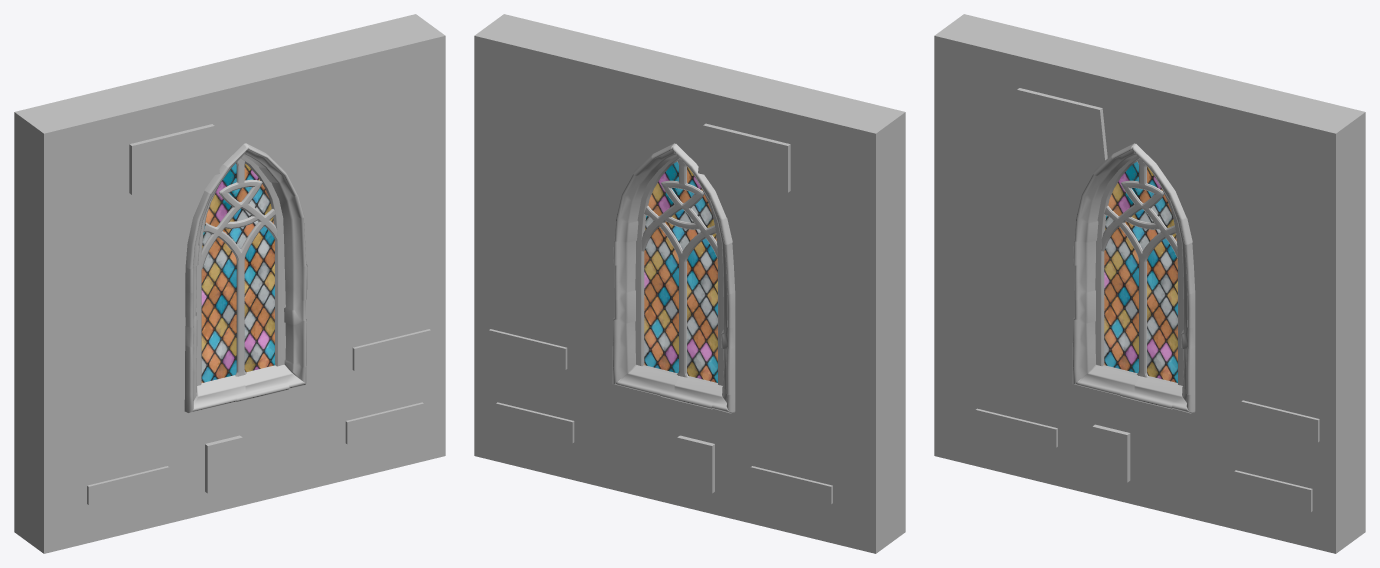
3 views of the same model, side by side, from view 1: azimuth 30°, elevation 25°; view 2: azimuth 150°, elevation 25°; view 3: azimuth 330°, elevation 25° (orthographic).
Parts seen in each view (by area): view 1: SM_BB_T3_Extended_Wall_Windowframe_Large_12_LOD0; view 2: SM_BB_T3_Extended_Wall_Windowframe_Large_12_LOD0; view 3: SM_BB_T3_Extended_Wall_Windowframe_Large_12_LOD0.
Boxes of the visible parts, x1,y1,x2,y2 form: SM_BB_T3_Extended_Wall_Windowframe_Large_12_LOD0: (14,14,445,553); SM_BB_T3_Extended_Wall_Windowframe_Large_12_LOD0: (474,14,905,553); SM_BB_T3_Extended_Wall_Windowframe_Large_12_LOD0: (934,14,1365,553).
Size of the model in its own units: 3 by 3 by 0.4969.
